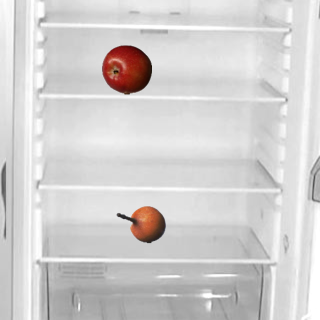Apple Braeburn: (101, 44, 151, 94)
Granadilla: (115, 199, 165, 249)
